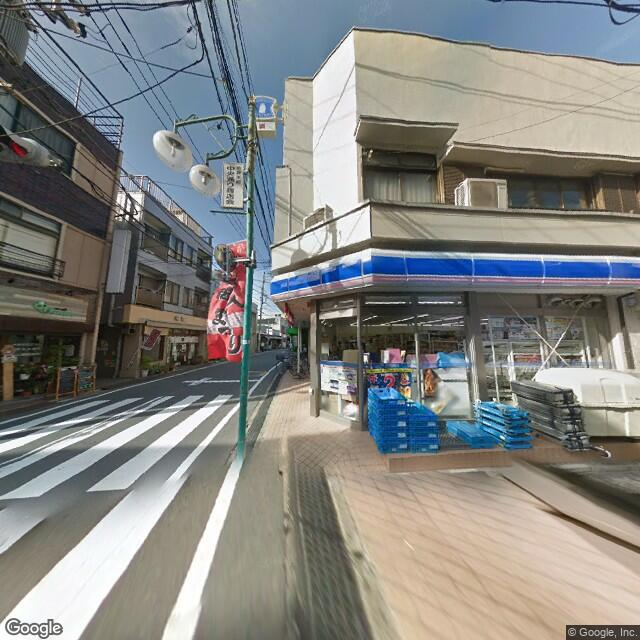lawson: (268, 246, 637, 308)
